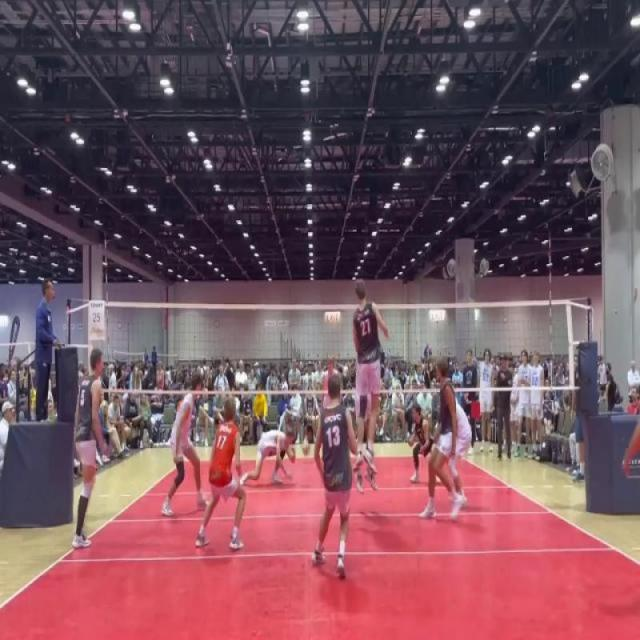volleyball: (300, 438, 312, 458)
